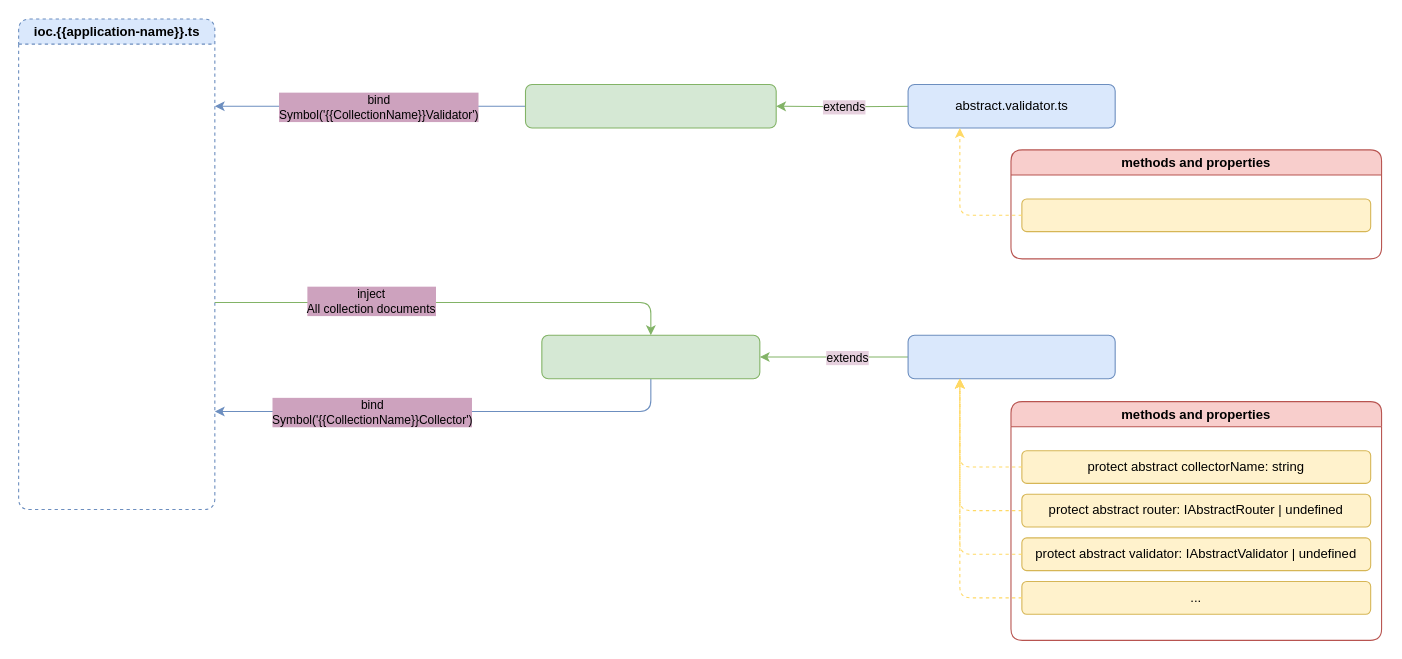
The diagram is 1402 pixels wide and 659 high, and some of its shapes have lost their labels. The centre of each missing label's shape, as x and y in pixels:
"abstract.collector.ts" belongs at pixel 1011 356.
"protect bAgent: IBusinessAgent" belongs at pixel 1196 215.
"{{collection-name}}.collector.ts" belongs at pixel 650 356.
"{{collection-name}}.validator.ts" belongs at pixel 650 105.
